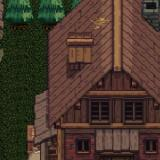Obstacle: (4, 0, 160, 160)
